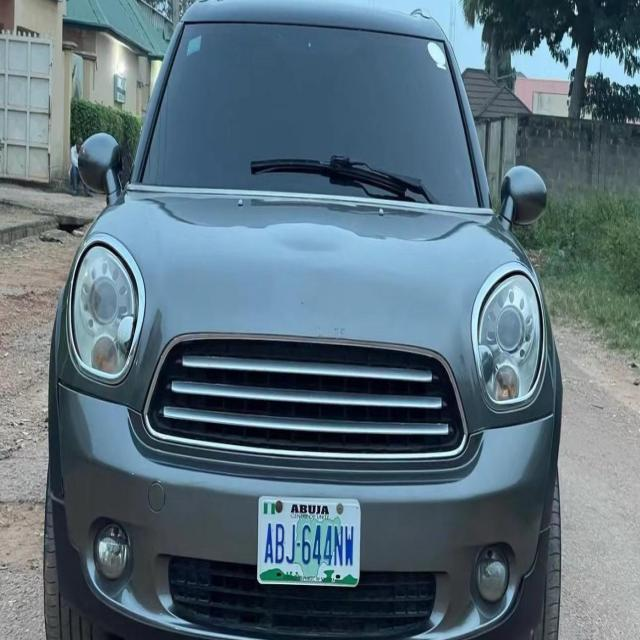Nigerian License Plate - vdataset benjamin-daria: (255, 491, 364, 595)
